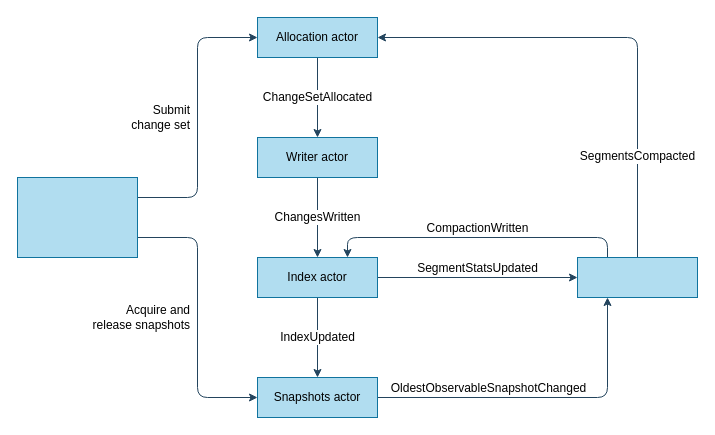
Image size: 715x435. Some labels were removed from this diagram. The centre of each missing label's shape, as x and y in pixels:
"Compaction actor" belongs at point (637, 277).
"KeyValueStore API" belongs at point (77, 217).
